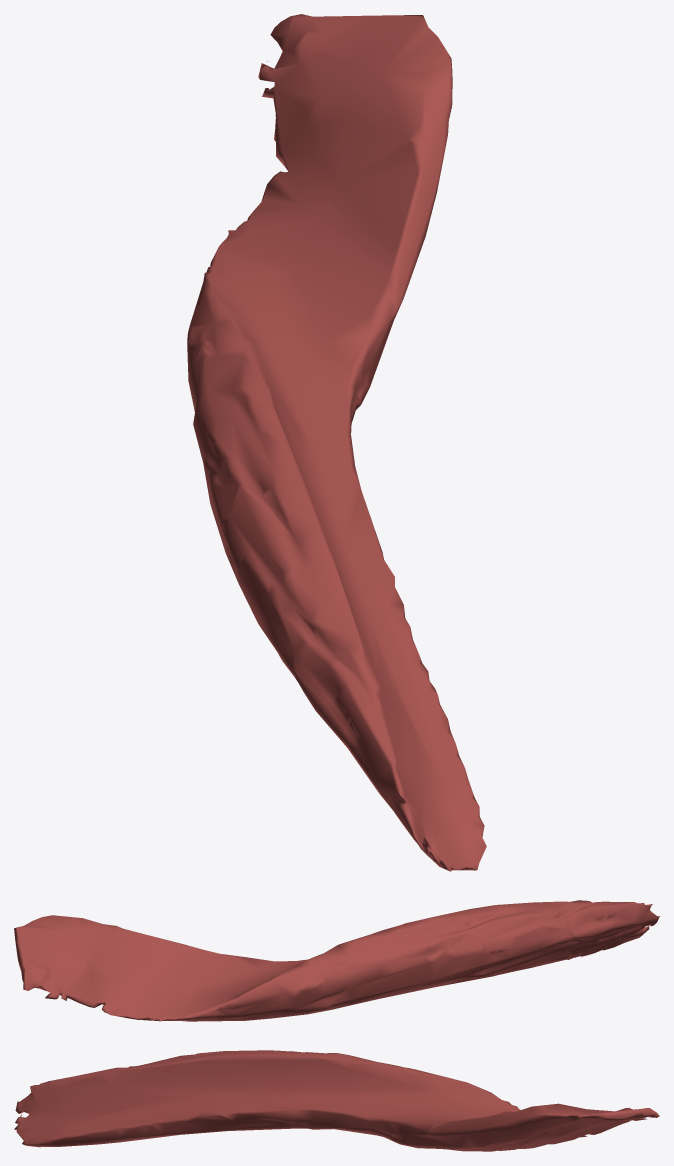
Rendered from FMA86034.glb.
3 renders of one model, top to bottom at view 1: azimuth 30°, elevation 25°; view 2: azimuth 150°, elevation 25°; view 3: azimuth 270°, elevation 25°, orthographic. The views are drawn at different scales.
Parts seen in each view (by area): view 1: FMA86034; view 2: FMA86034; view 3: FMA86034.
Boxes of the visible parts, left/top/right/bottom form: FMA86034: left=187, top=14, right=486, bottom=871; FMA86034: left=14, top=900, right=659, bottom=1021; FMA86034: left=14, top=1050, right=659, bottom=1151.
Size of the model in its own units: 0.0219 by 0.0112 by 0.0419.
